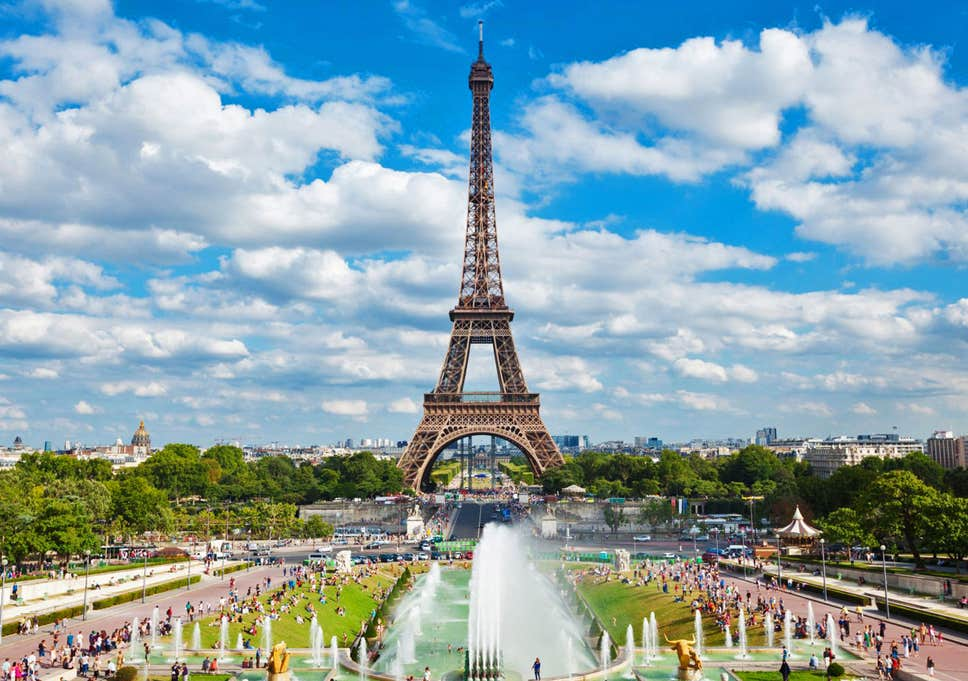eiffel tower: (375, 13, 585, 494)
